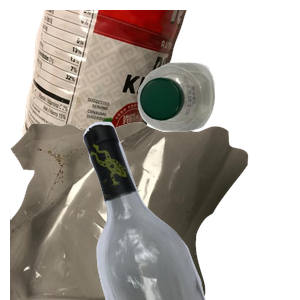glass: (81, 120, 300, 300)
metal: (20, 10, 199, 172)
plastic: (135, 60, 300, 184)
trash: (10, 120, 250, 300)
